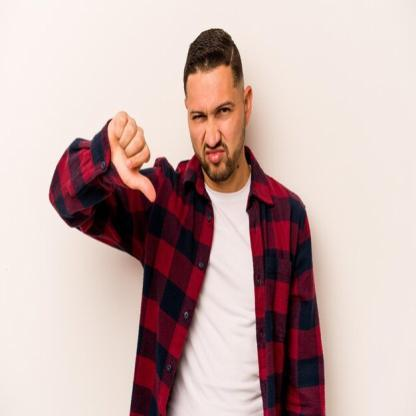thumb_down: (103, 109, 158, 205)
